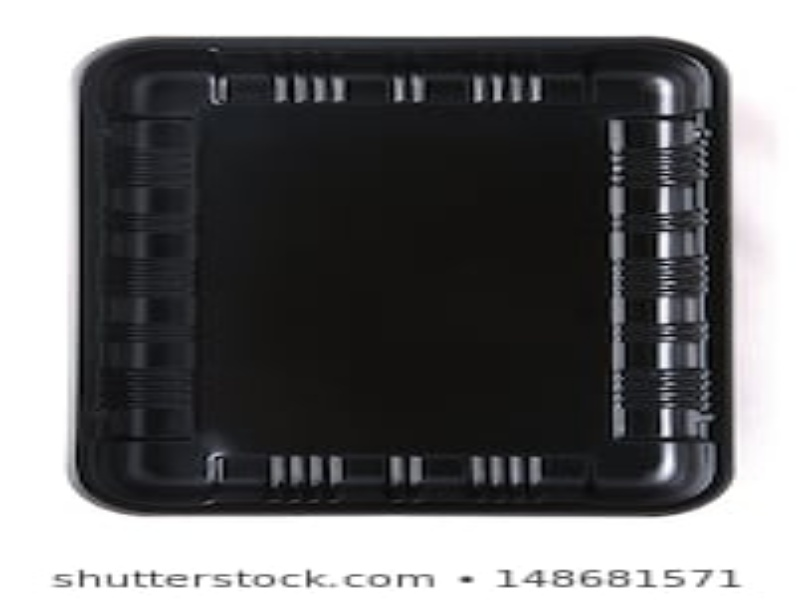plastic-tray: (61, 32, 742, 520)
